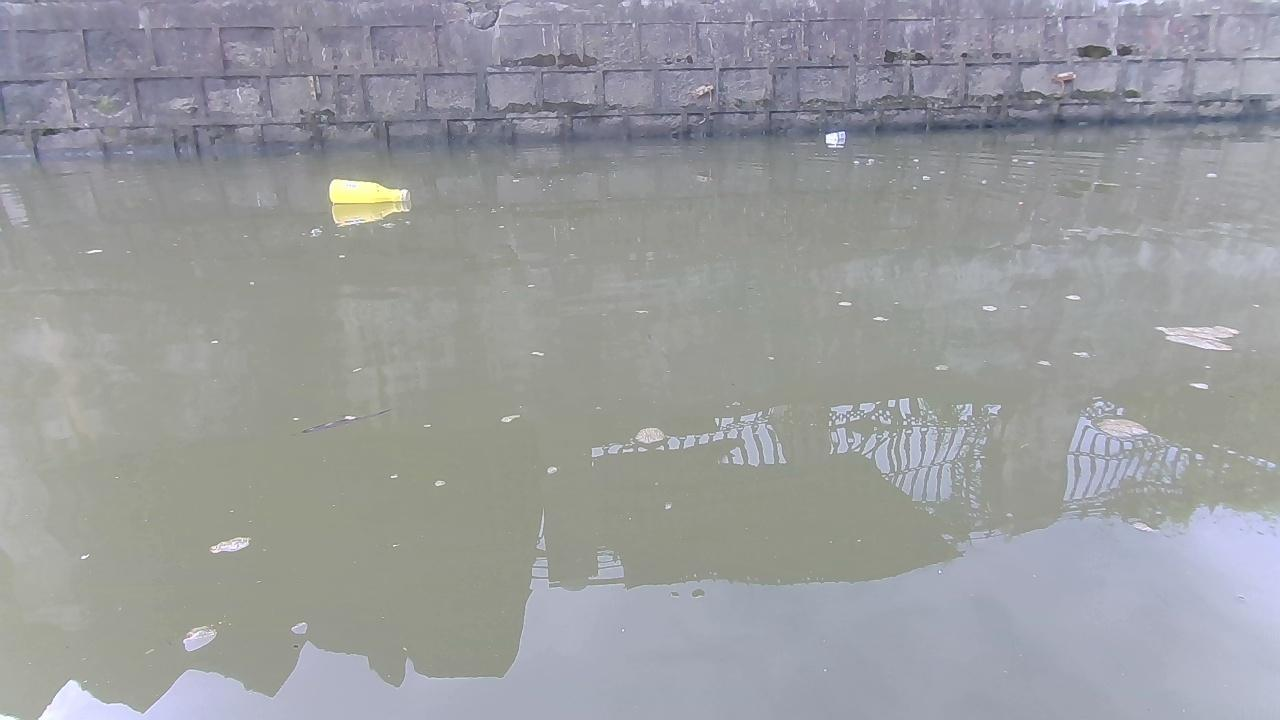bottle: (322, 171, 407, 206), (821, 126, 851, 141)
